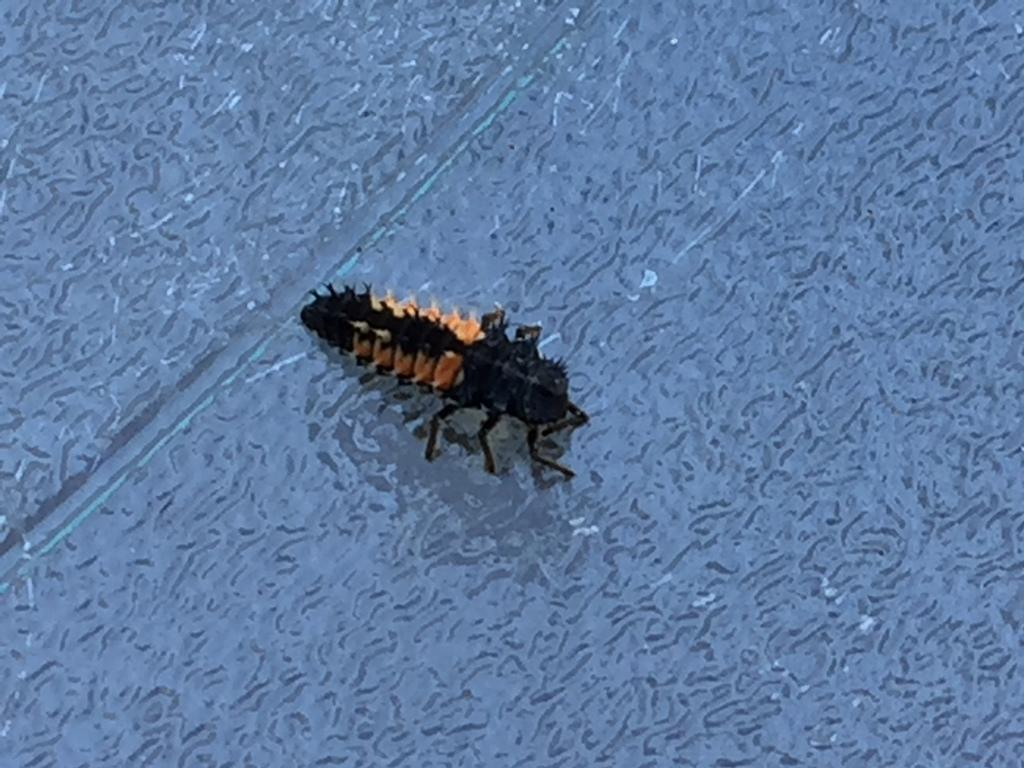ladybug: (297, 277, 595, 487)
